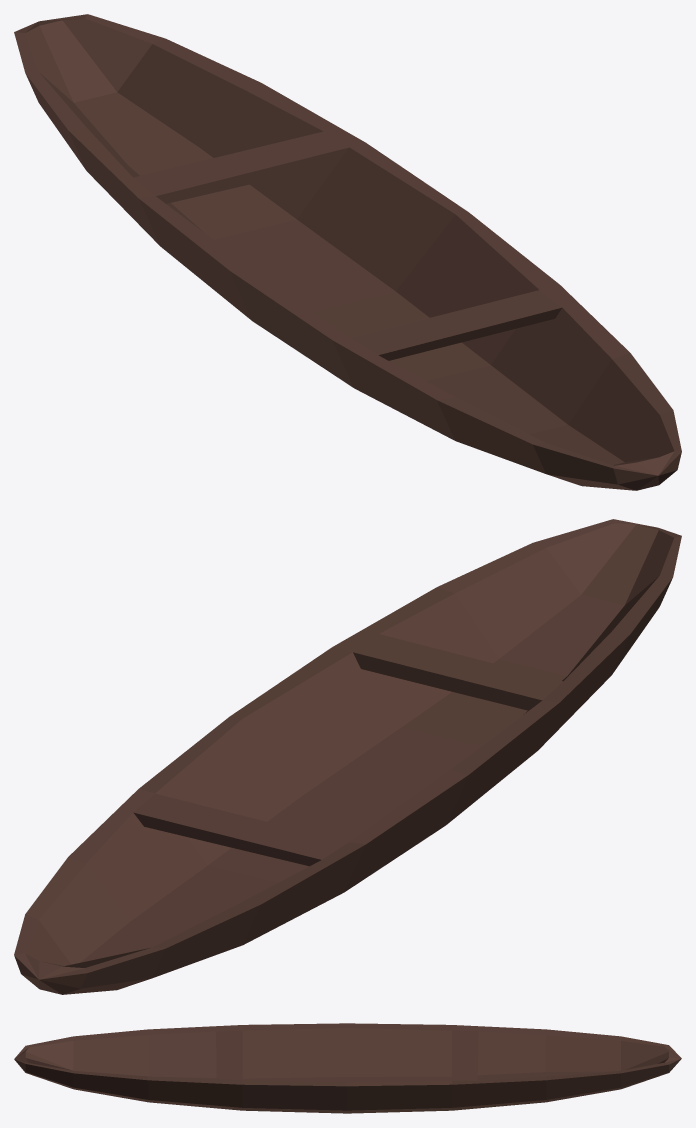
The model's file is fbxCanoe.fbx.
3 views of the same model, one above another, from view 1: azimuth 30°, elevation 25°; view 2: azimuth 150°, elevation 25°; view 3: azimuth 270°, elevation 25° (orthographic). The views are drawn at different scales.
Visible parts, largest first — view 1: pSphere1; view 2: pSphere1; view 3: pSphere1.
Part boxes in pixels (x1=…): pSphere1: x1=14, y1=14, x2=681, y2=490; pSphere1: x1=14, y1=519, x2=681, y2=994; pSphere1: x1=14, y1=1023, x2=681, y2=1113.
Size of the model in its own units: 3.65 by 1.34 by 16.35.
